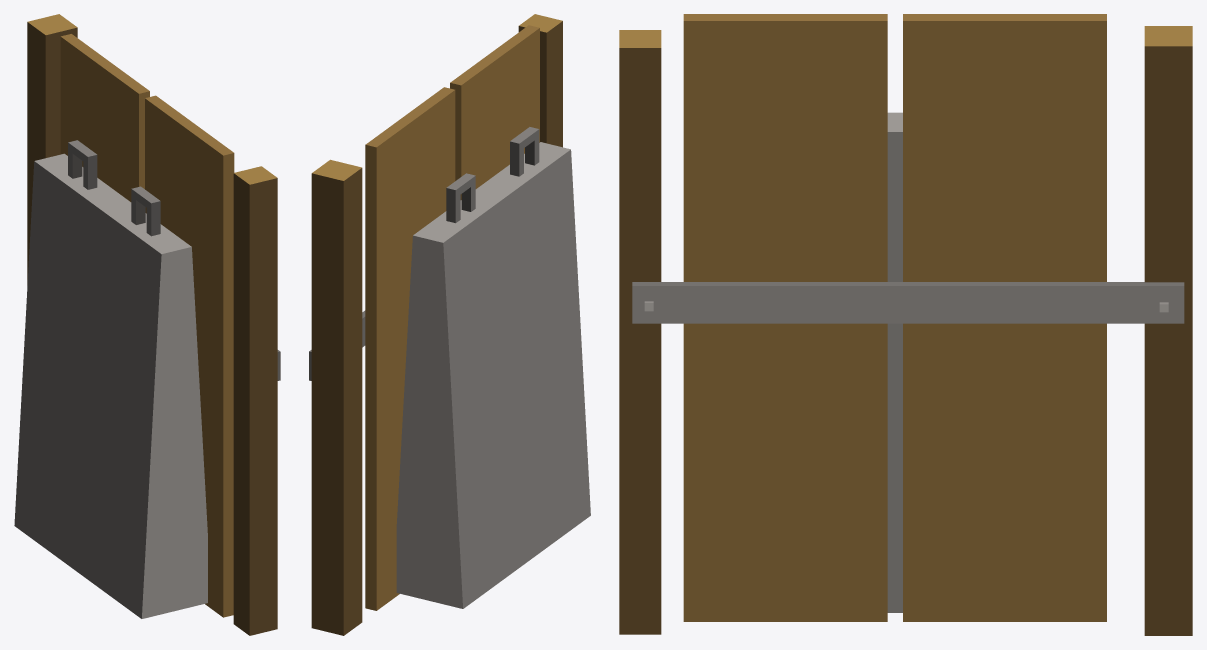
The model's file is FenceWoodL_Concrete_01.fbx.
The picture shows the model from 3 angles, left to right: view 1: azimuth 30°, elevation 25°; view 2: azimuth 150°, elevation 25°; view 3: azimuth 270°, elevation 25°; orthographic projection. The views are drawn at different scales.
Parts seen in each view (by area): view 1: FenceWoodL_Concrete_01; view 2: FenceWoodL_Concrete_01; view 3: FenceWoodL_Concrete_01.
Part boxes in pixels (box(x1,y1,x2,y2)): FenceWoodL_Concrete_01: box(14, 14, 280, 635); FenceWoodL_Concrete_01: box(309, 14, 590, 635); FenceWoodL_Concrete_01: box(619, 14, 1192, 635).
Size of the model in its own units: 1.45 by 5.21 by 6.03.
